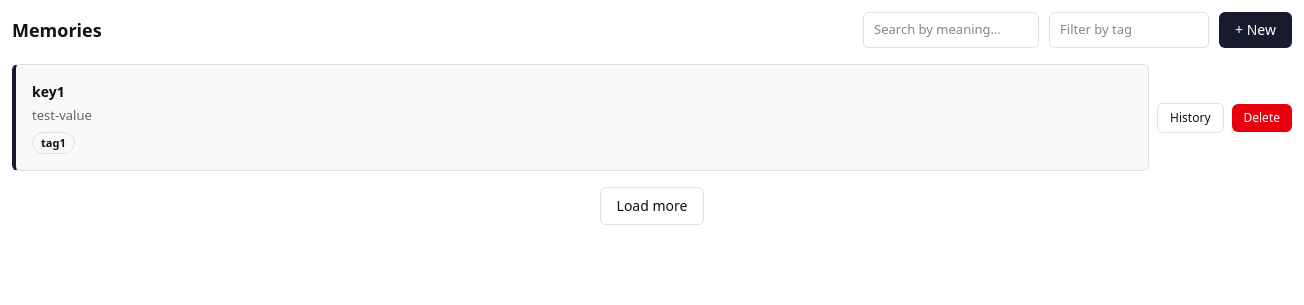
it: MemoryBrowser › loads more memories and appends them
Click the button "Load more". click: (652, 206)
box: x1=600 y1=187 x2=704 y2=225
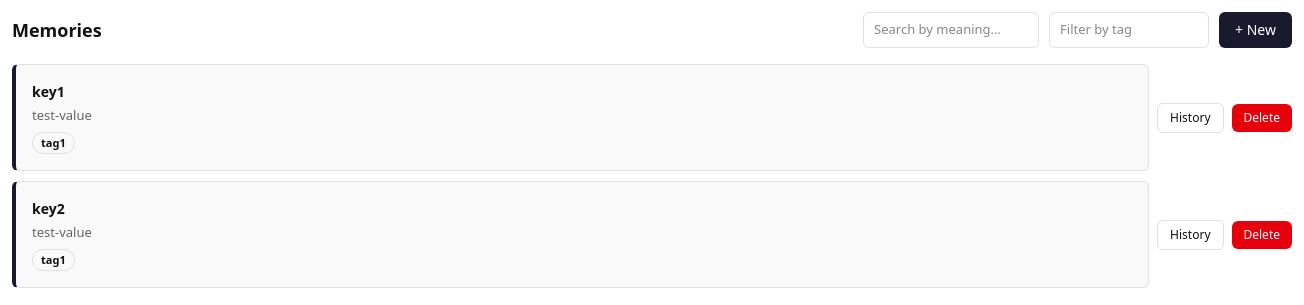
Expected: the text "key1" is shown, x1=32 y1=81 x2=65 y2=102
Now the text "key2" is shown, box x1=32 y1=198 x2=65 y2=219
